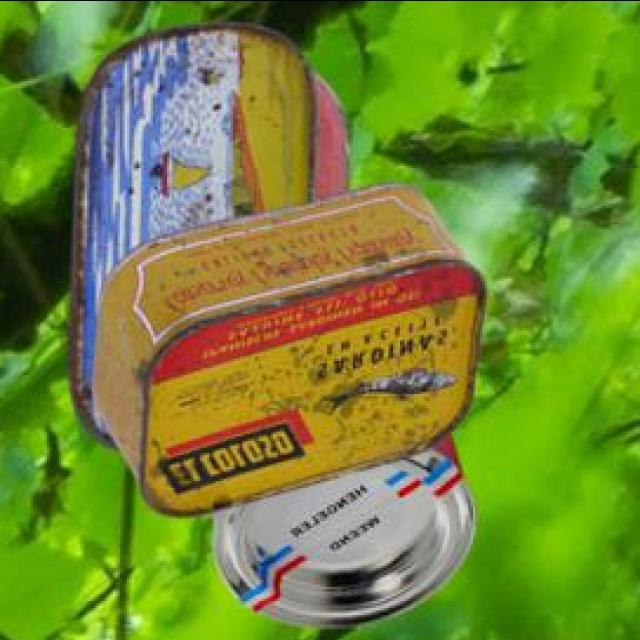logam: (88, 180, 484, 512), (65, 18, 345, 445), (211, 429, 472, 622)
